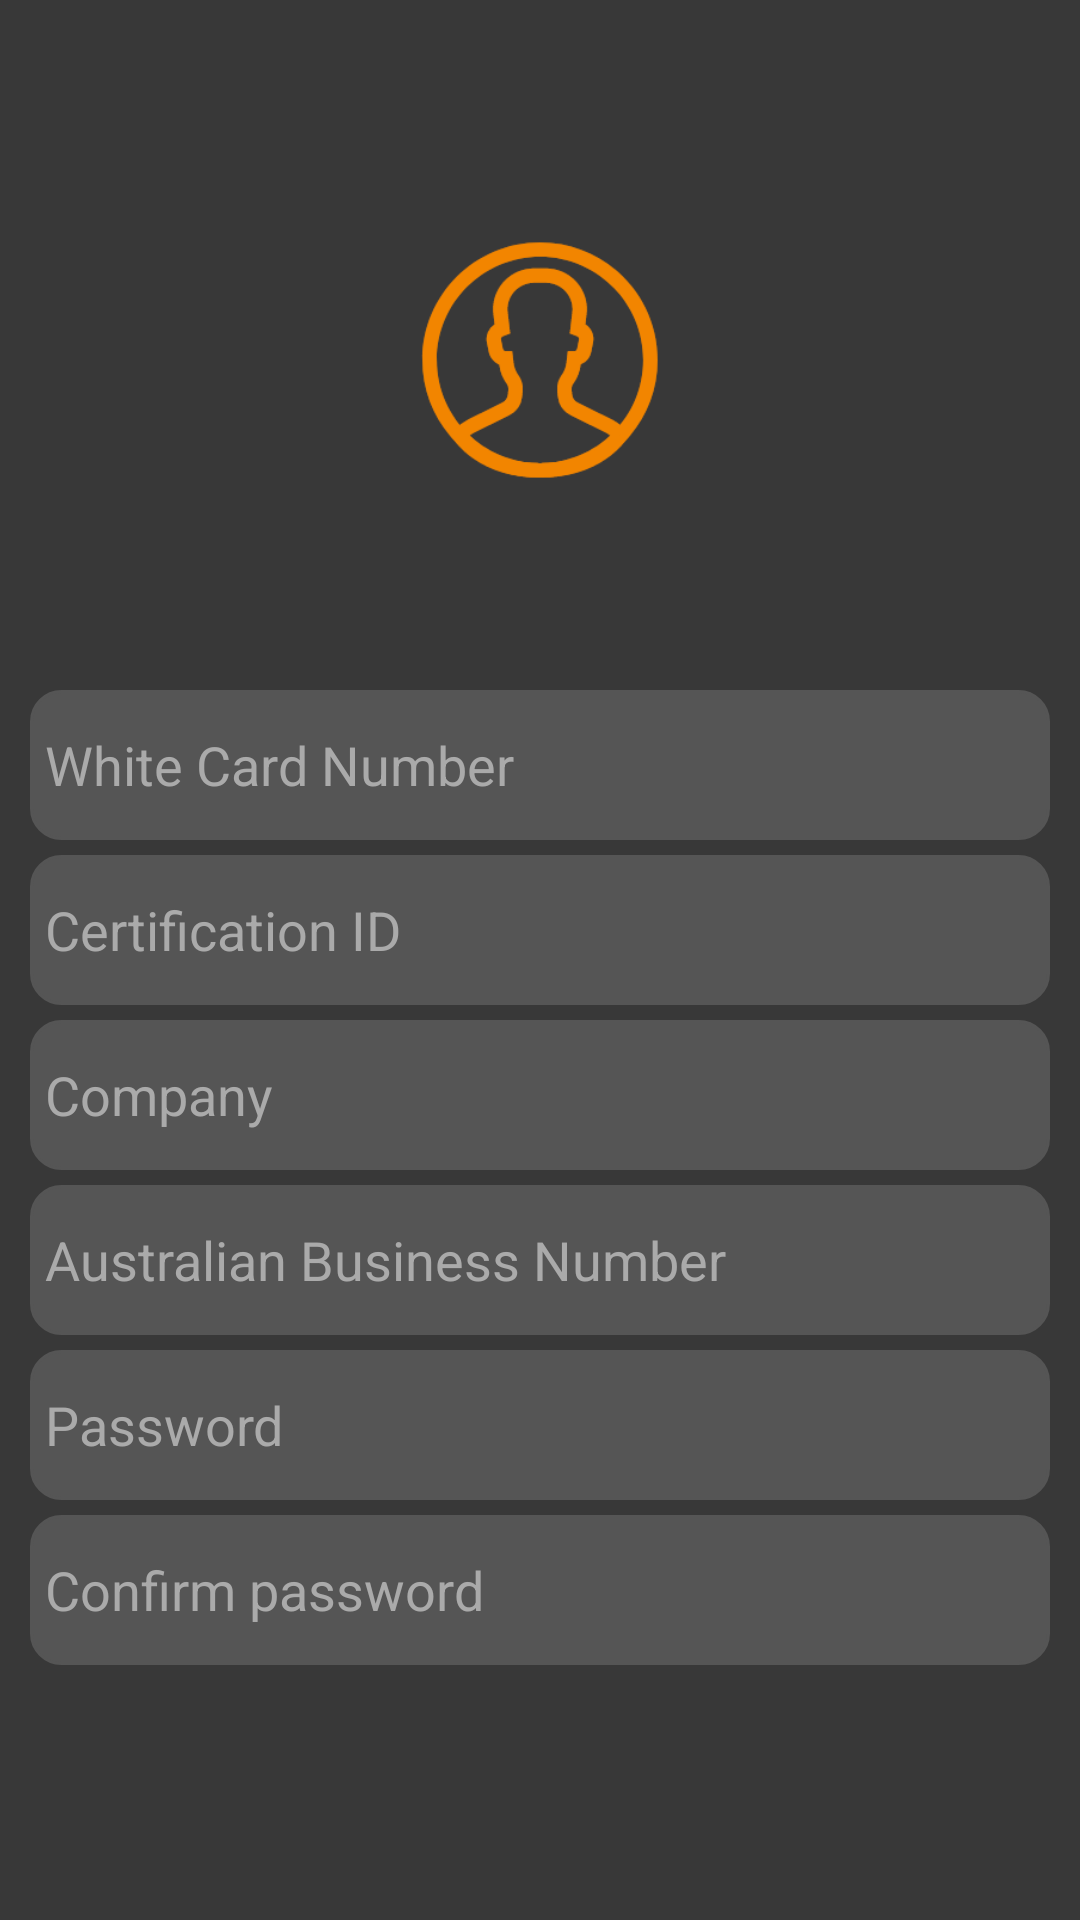

Icon bounding boxes for this 1080 x 1920 phone screenshot, format (x1, y1, x2, y2):
user: (422, 242, 658, 478)
